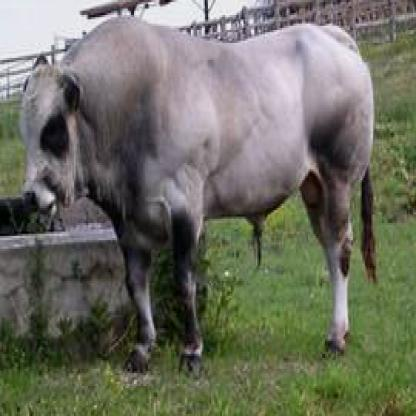cow: (21, 17, 374, 373)
